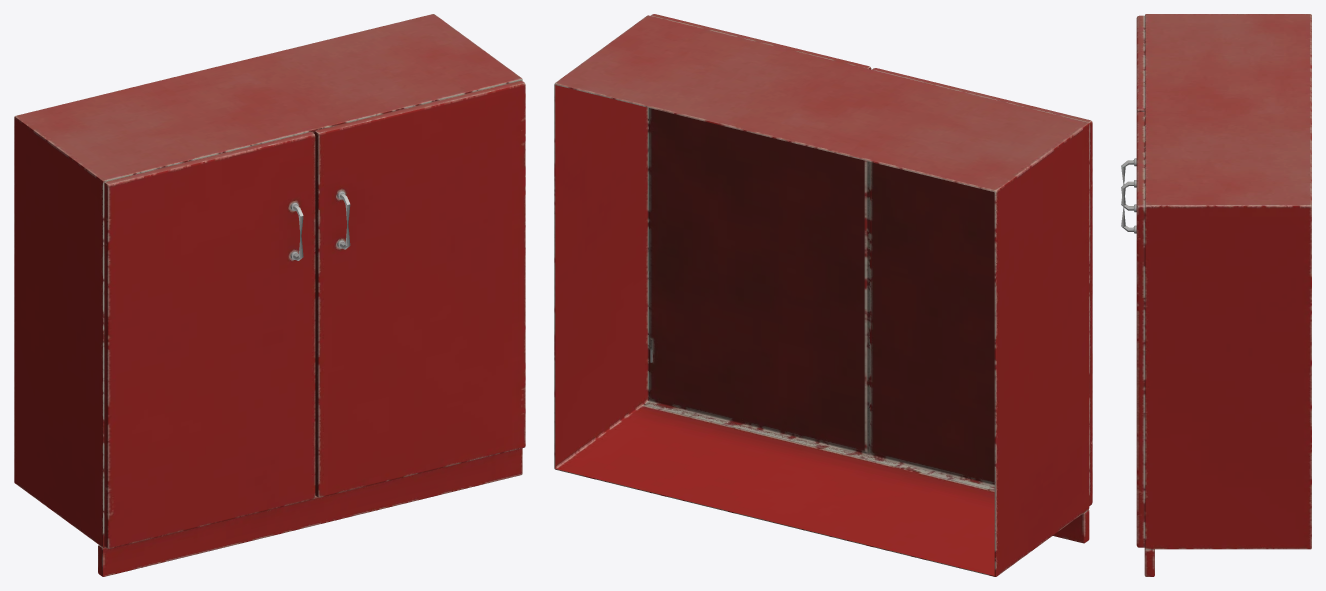
File: kit_upper_90_red.glb
3 renders of one model, left to right at view 1: azimuth 30°, elevation 25°; view 2: azimuth 150°, elevation 25°; view 3: azimuth 270°, elevation 25°, orthographic. The views are drawn at different scales.
Visible parts, largest first — view 1: kit_upper_90_red; view 2: kit_upper_90_red; view 3: kit_upper_90_red.
Part boxes in pixels (<box>): kit_upper_90_red: <box>14,14,525,576</box>; kit_upper_90_red: <box>554,14,1092,576</box>; kit_upper_90_red: <box>1121,14,1311,576</box>.
Size of the model in its own units: 0.898 by 0.81 by 0.3768.
1 material, 1 textured.
